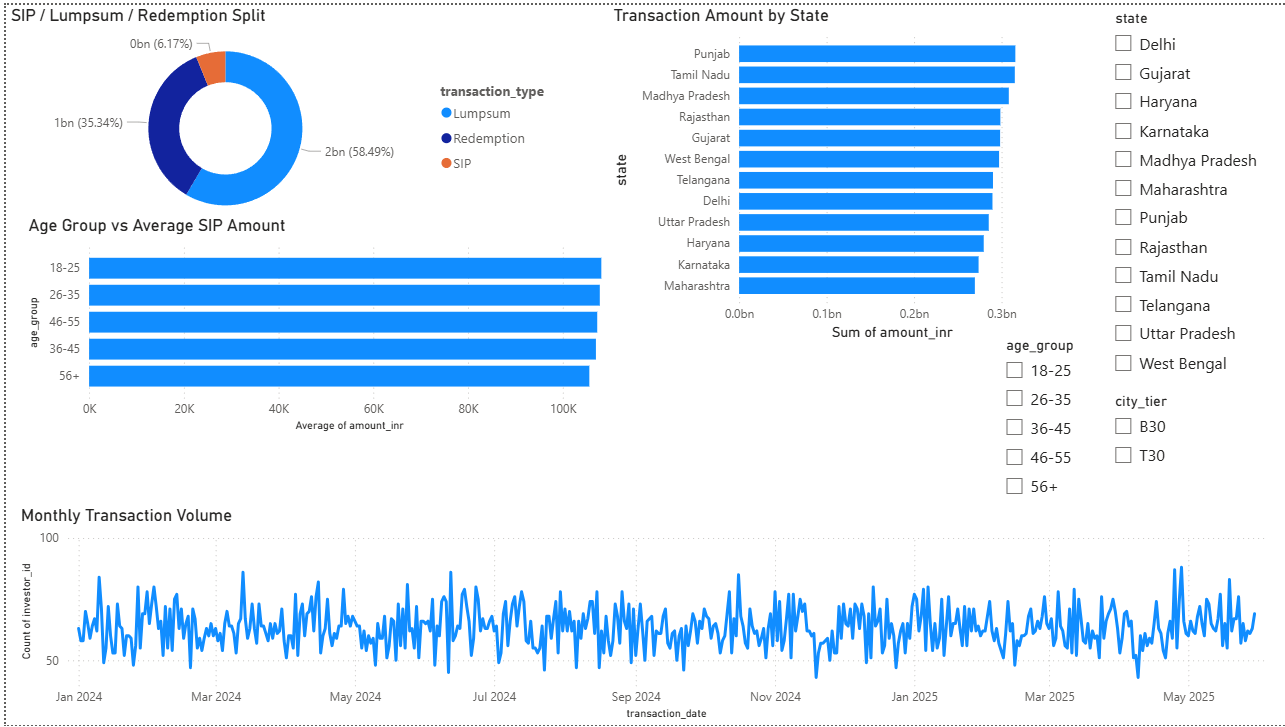

The page's visual inventory and layout, read from the dashboard file:
{"tool":"powerbi","page":{"name":"Investor Analysis","canvas":[1280,720],"ordinal":2},"visuals":[{"type":"clusteredBarChart","title":"Transaction Amount by State","fields":{"Category":["08_investor_transactions.state"],"Y":["Sum(08_investor_transactions.amount_inr)"]},"box":[602.3,0,457,340.7],"z":0},{"type":"donutChart","title":"SIP / Lumpsum / Redemption Split","fields":{"Category":["08_investor_transactions.transaction_type"],"Y":["Sum(08_investor_transactions.amount_inr)"]},"box":[0,0,558.1,227.9],"z":1000},{"type":"barChart","title":"Age Group vs Average SIP Amount","fields":{"Category":["08_investor_transactions.age_group"],"Y":["Avg(08_investor_transactions.amount_inr)"]},"box":[17.4,210.5,605.8,222.1],"z":2000},{"type":"lineChart","title":"Monthly Transaction Volume","fields":{"Category":["08_investor_transactions.transaction_date"],"Y":["CountNonNull(08_investor_transactions.investor_id)"]},"box":[10.5,500,1269.8,219.8],"z":3000},{"type":"slicer","fields":{"Values":["08_investor_transactions.state"]},"box":[1096.5,0,175.6,389.5],"z":4000},{"type":"slicer","fields":{"Values":["08_investor_transactions.age_group"]},"box":[987.2,326.7,109.3,173.3],"z":5000},{"type":"slicer","fields":{"Values":["08_investor_transactions.city_tier"]},"box":[1096.5,382.6,102.3,100],"z":6000}]}

Visuals, with their boxes in screenshot pixels (x1, y1, x2, y2), scaled from the page's 1280x720 canvas onto the 1285x727 screenshot:
"Transaction Amount by State" clusteredBarChart: select_region(605, 0, 1063, 344)
"SIP / Lumpsum / Redemption Split" donutChart: select_region(0, 0, 560, 230)
"Age Group vs Average SIP Amount" barChart: select_region(17, 213, 626, 437)
"Monthly Transaction Volume" lineChart: select_region(11, 505, 1284, 726)
slicer - 08_investor_transactions.state: select_region(1101, 0, 1277, 393)
slicer - 08_investor_transactions.age_group: select_region(991, 330, 1101, 505)
slicer - 08_investor_transactions.city_tier: select_region(1101, 386, 1203, 487)
